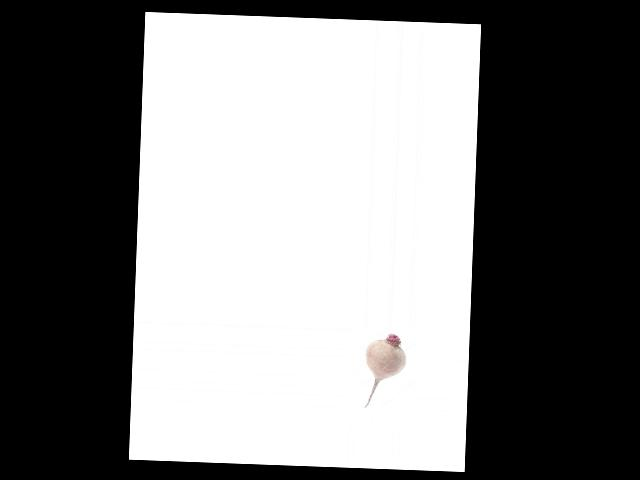beet: (363, 333, 408, 409)
